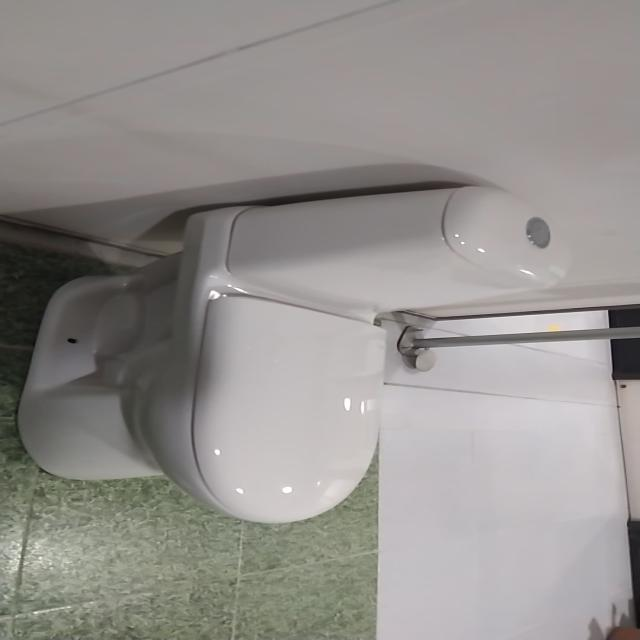toilet: (16, 184, 568, 524)
